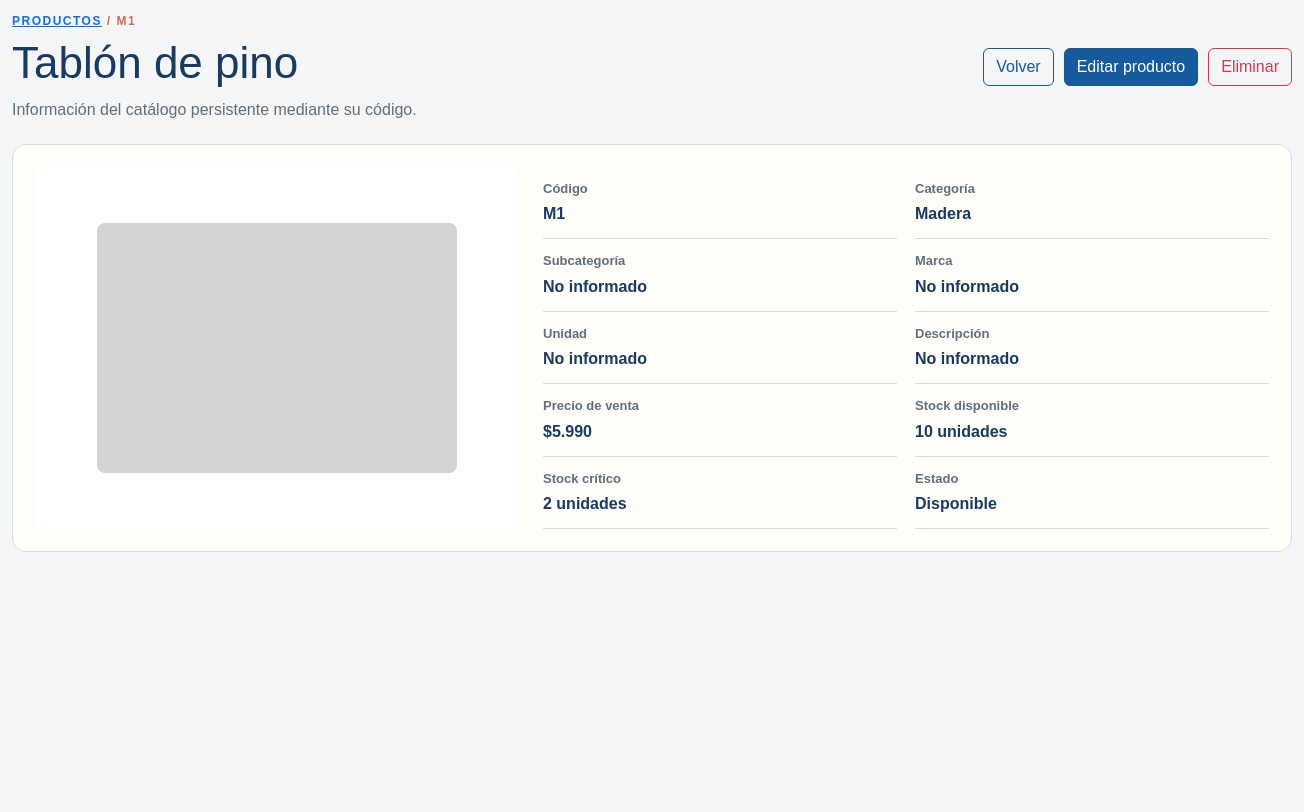
Test case: AdminProductoDetalleContainer › muestra un error si no se puede guardar la eliminación
Click the button "Eliminar". click: (1250, 67)
box: [1208,48,1292,86]
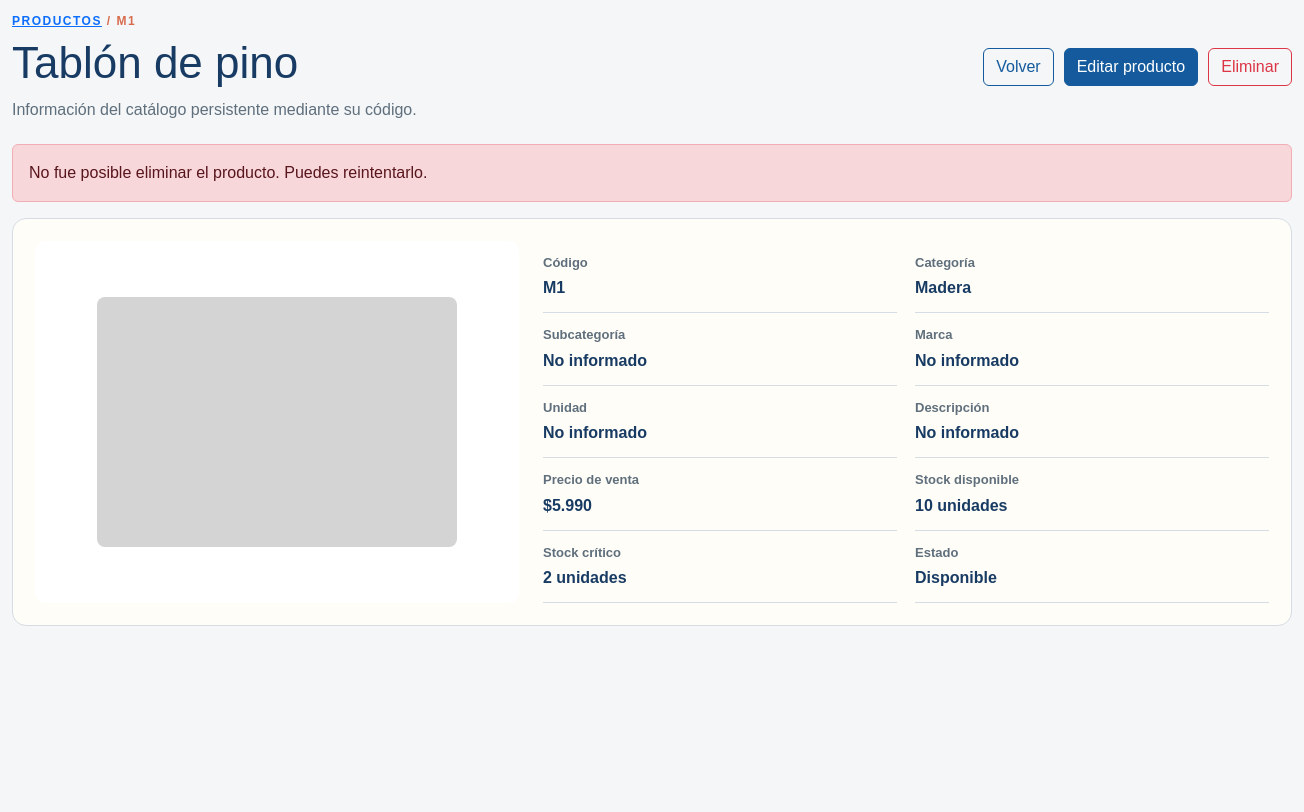
Now the message shows "No fue posible eliminar el producto", box [29,164,428,181]
